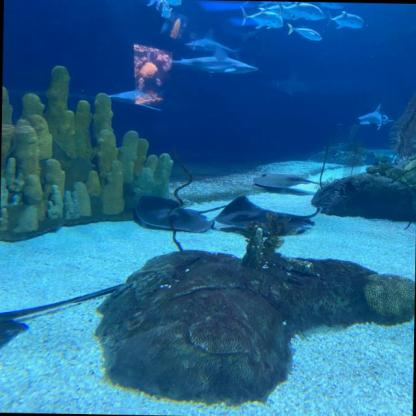fish: (240, 10, 286, 29), (279, 5, 325, 22), (252, 5, 297, 22), (330, 13, 366, 29), (315, 2, 347, 13), (154, 2, 175, 18), (296, 28, 324, 40)
shark: (169, 49, 259, 76), (102, 87, 168, 109), (270, 76, 312, 96), (359, 109, 394, 130)
stingray: (214, 197, 314, 240), (130, 194, 213, 235), (0, 310, 37, 355), (250, 169, 310, 194)
